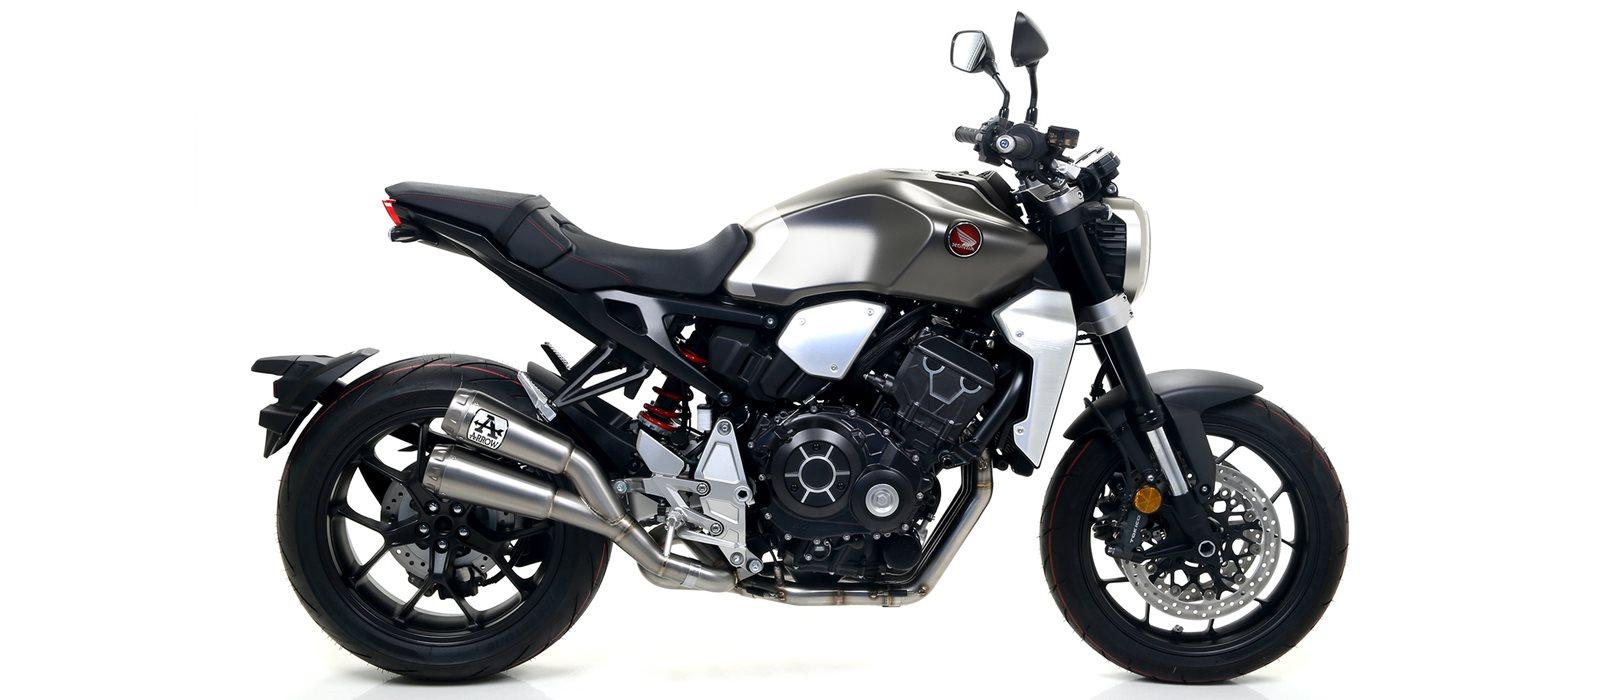engine-chasis: (636, 292, 1031, 576), (637, 365, 694, 450), (673, 316, 732, 374)
exhaust: (422, 388, 994, 607)
frontside: (990, 183, 1264, 563)
handlebar: (949, 9, 1122, 202)
motorbike: (251, 11, 1350, 682)
rearside: (381, 181, 791, 521), (251, 347, 381, 459)
seat: (384, 181, 749, 295)
tank: (722, 167, 1049, 308)
wheel: (276, 354, 613, 683), (1040, 395, 1349, 682), (1083, 397, 1134, 489), (1088, 355, 1112, 402), (1076, 334, 1102, 346), (639, 514, 659, 529)
